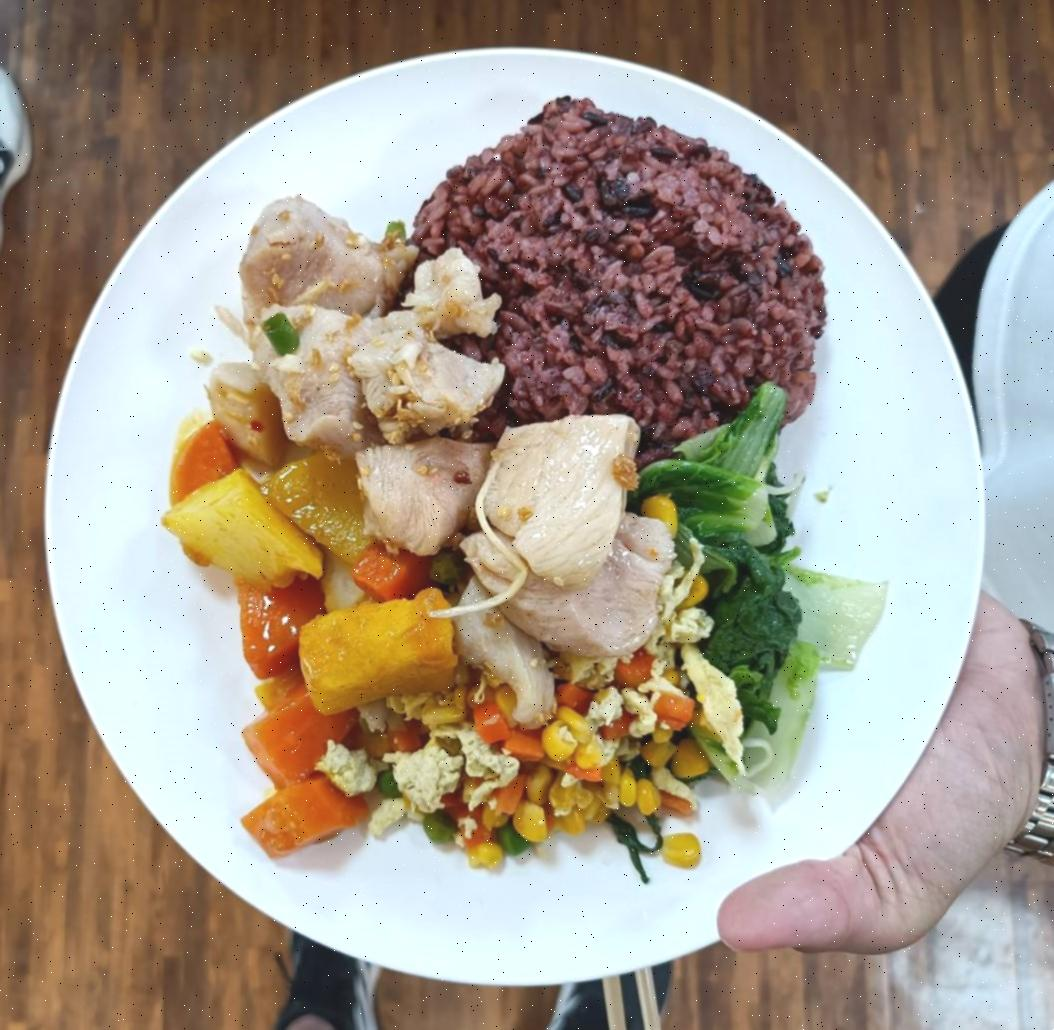big fried chicken leg: (33, 38, 995, 993)
braised fish: (405, 98, 823, 444)
braised fish fillet: (170, 375, 442, 859), (338, 610, 720, 876), (667, 380, 889, 782)
braised pork: (212, 194, 675, 712)
